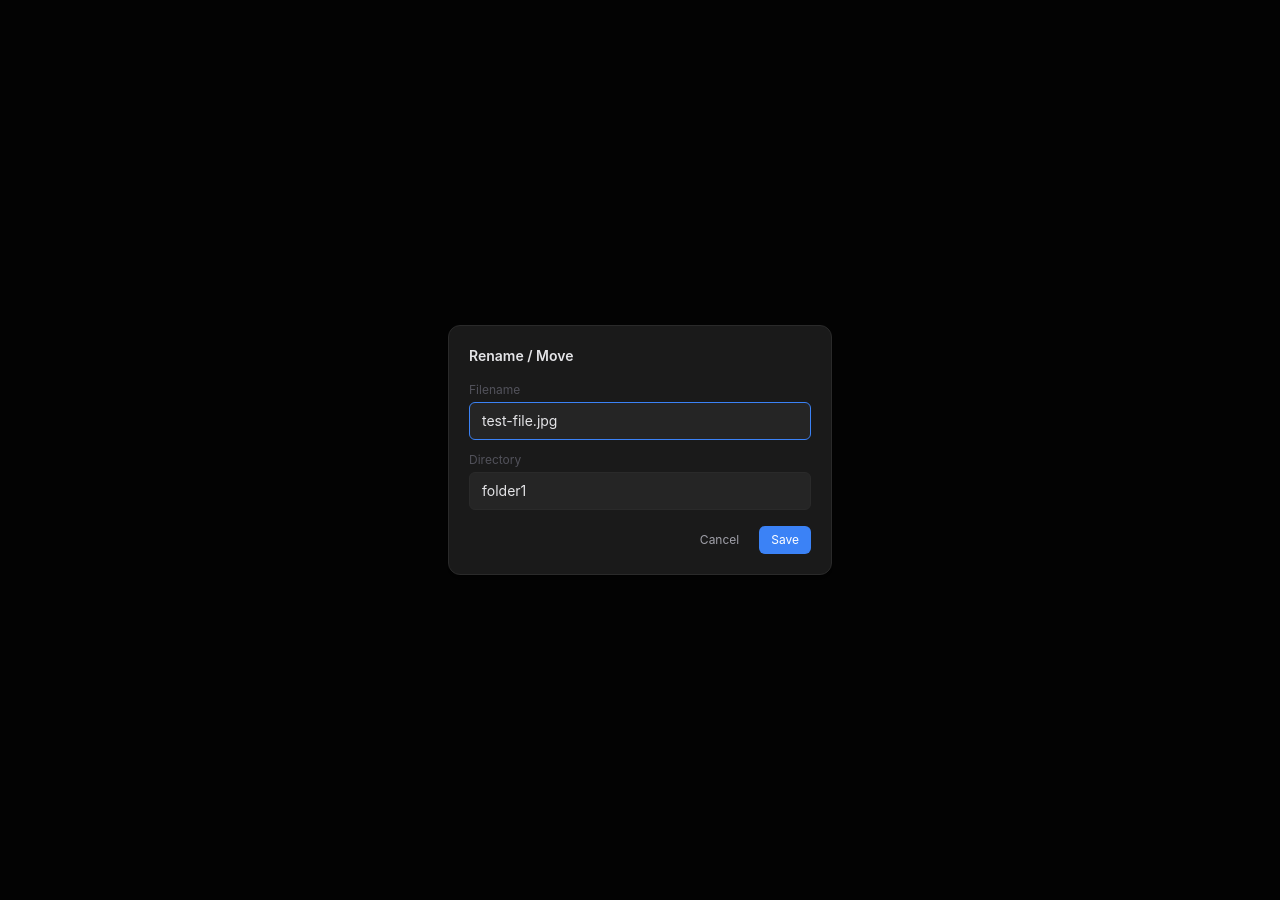
Test: MoveDialog › disables save button when filename is empty
The image size is (1280, 900).
Clear the field showing "test-file.jpg" below "Filename" at (640, 421), box [469,402,811,440]
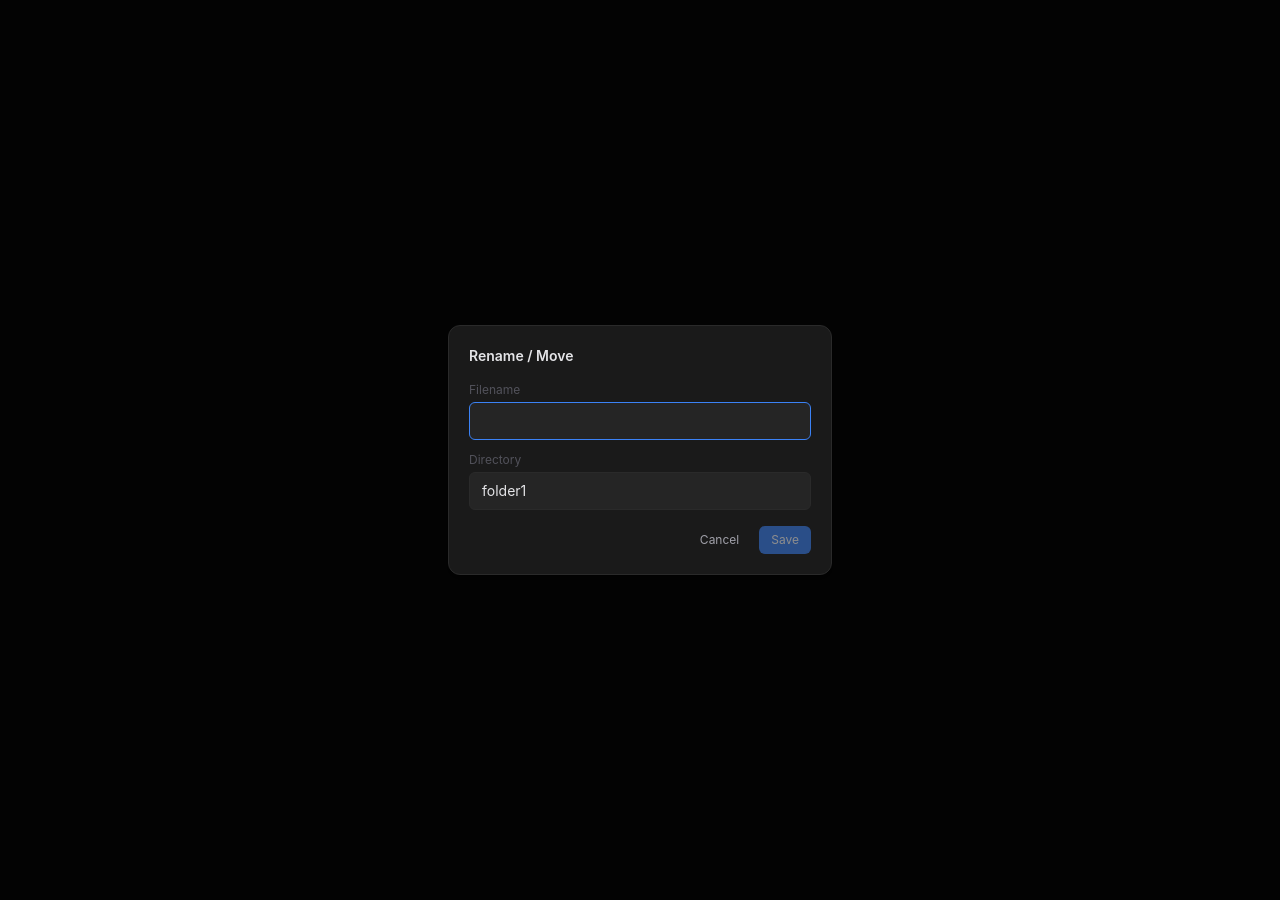
Now the button "Save" is disabled, box [759,526,811,554]
